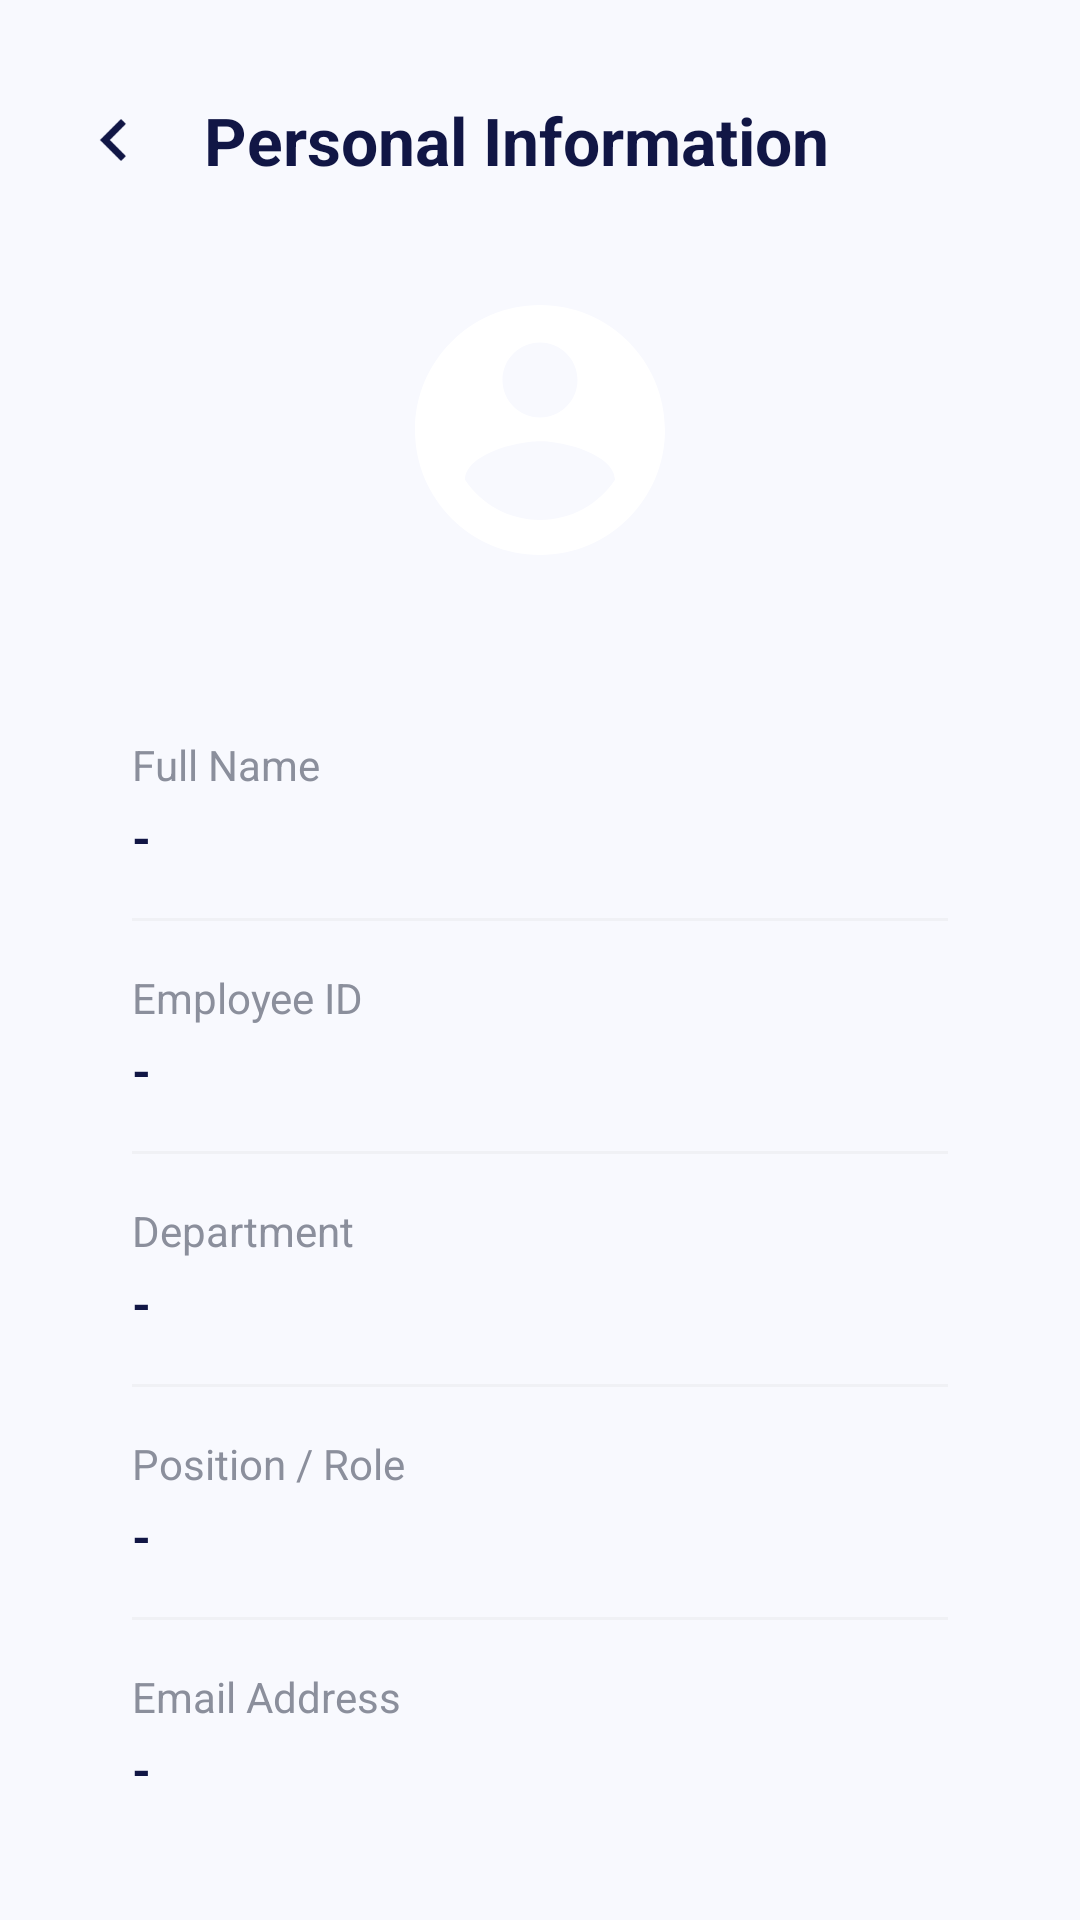

Icons on this 1080*1920 Android screen, each with the point to tap as point (x, y):
arrow back: point (113, 140)
